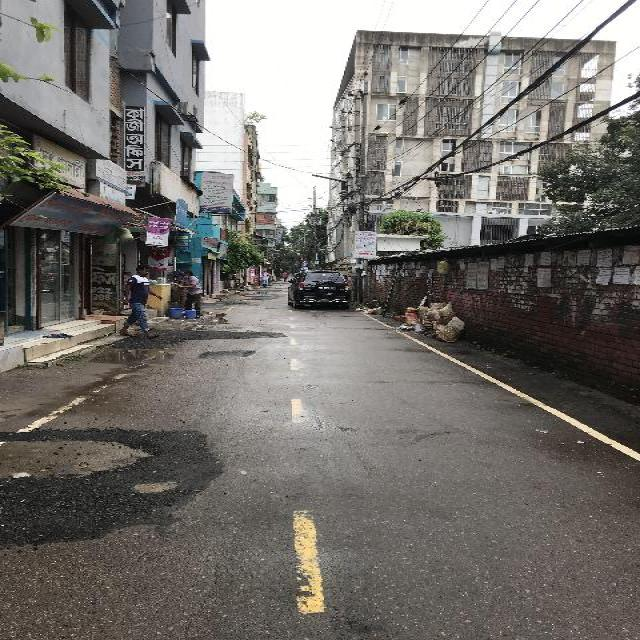suv: (283, 268, 354, 310)
